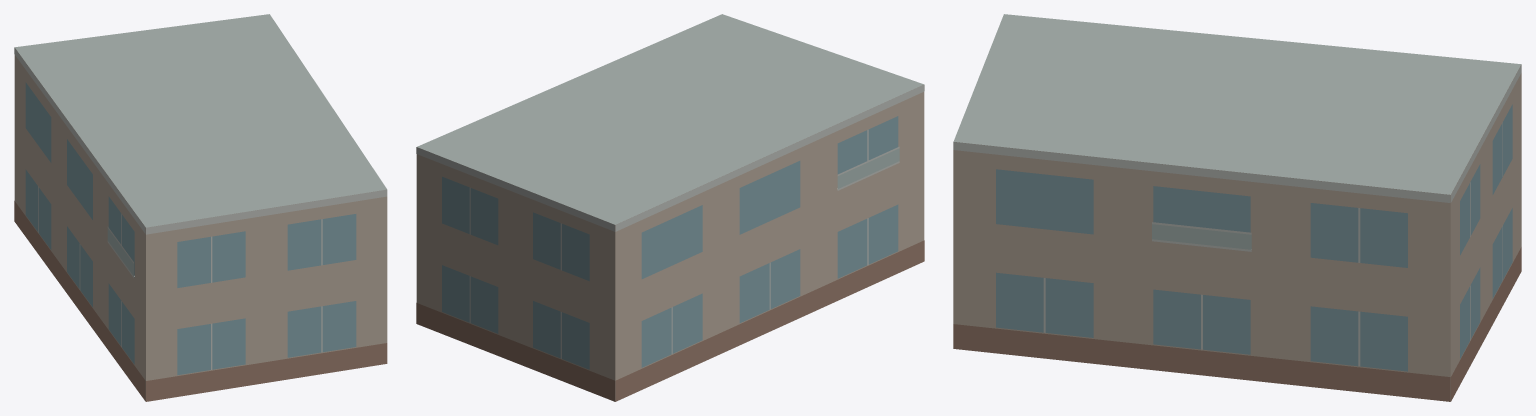
File: survey-upis-32816388.glb
The picture shows the model from 3 angles, left to right: view 1: azimuth 30°, elevation 25°; view 2: azimuth 150°, elevation 25°; view 3: azimuth 270°, elevation 25°; orthographic projection. The views are drawn at different scales.
Visible parts, largest first — view 1: survey-upis-32816388.tmp; view 2: survey-upis-32816388.tmp; view 3: survey-upis-32816388.tmp.
Part boxes in pixels (x1=…): survey-upis-32816388.tmp: x1=14, y1=14, x2=387, y2=401; survey-upis-32816388.tmp: x1=416, y1=14, x2=924, y2=401; survey-upis-32816388.tmp: x1=953, y1=14, x2=1521, y2=401.
Bounding box in the file's own units: 11.44 × 6.1 × 15.18.
